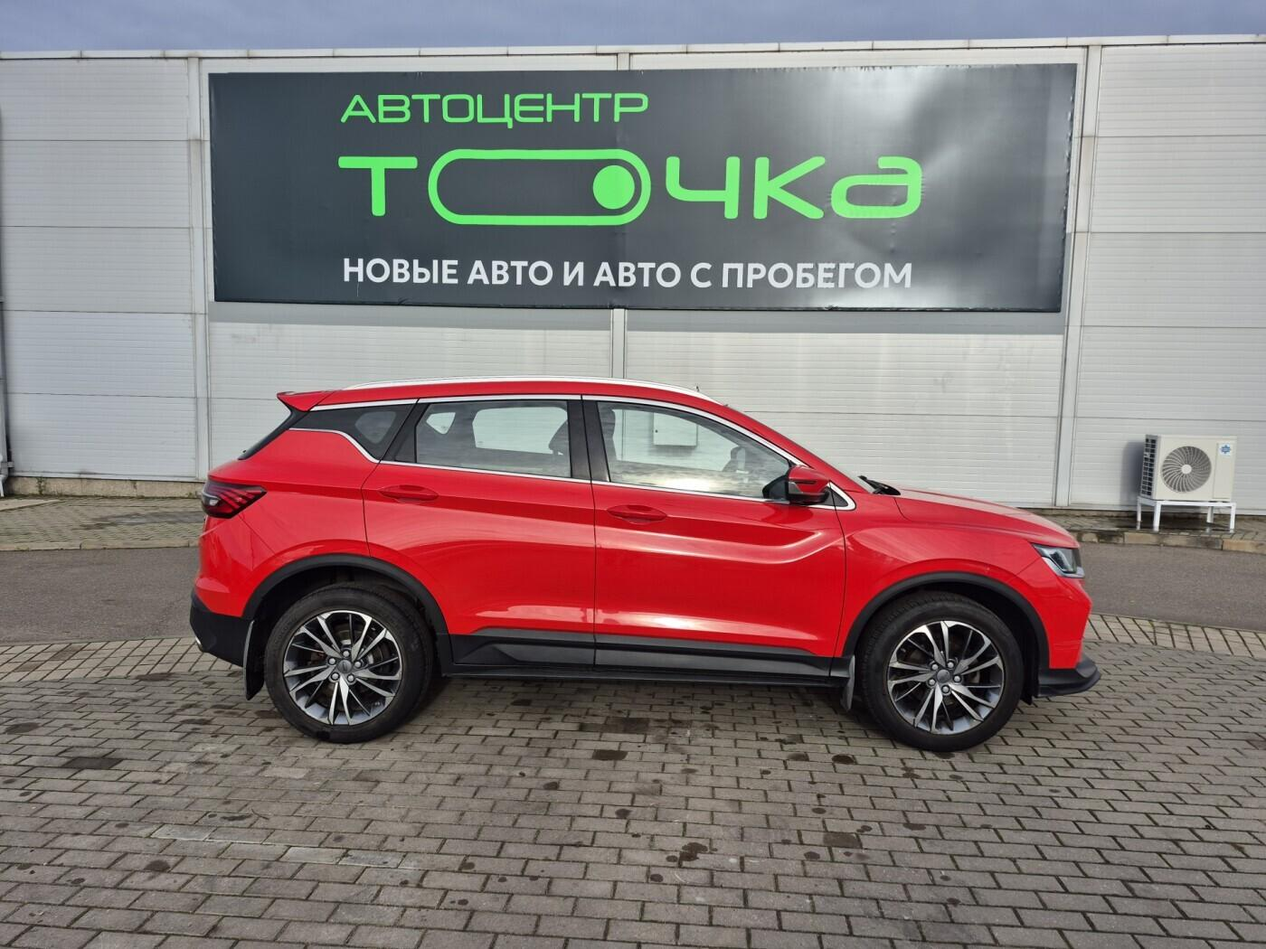Coolray_2019-2023: (181, 378, 1103, 748)
